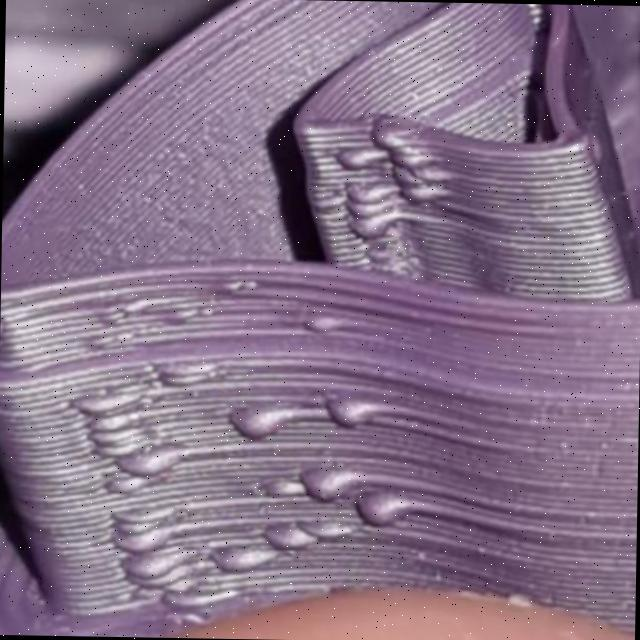blobs: (126, 552, 192, 598), (224, 396, 282, 446), (348, 487, 408, 534), (154, 353, 216, 397), (326, 386, 378, 432), (254, 467, 312, 506), (300, 463, 354, 504), (212, 540, 266, 580), (91, 415, 142, 457), (265, 520, 323, 556), (122, 446, 174, 484), (110, 526, 168, 558), (74, 382, 115, 424), (335, 139, 376, 177), (345, 181, 390, 211), (305, 310, 344, 342), (350, 215, 388, 242), (375, 117, 408, 148), (344, 197, 392, 218), (401, 178, 431, 209), (393, 144, 429, 168), (421, 158, 452, 184)
